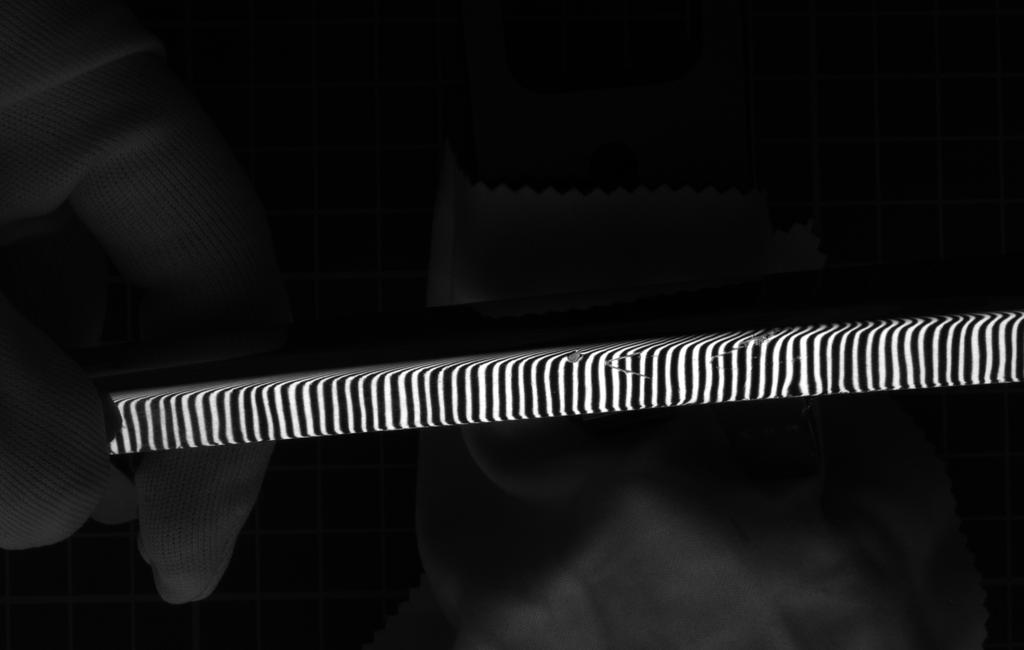Pierced: (548, 342, 599, 379)
Scratch: (694, 327, 790, 381), (595, 346, 669, 387)
